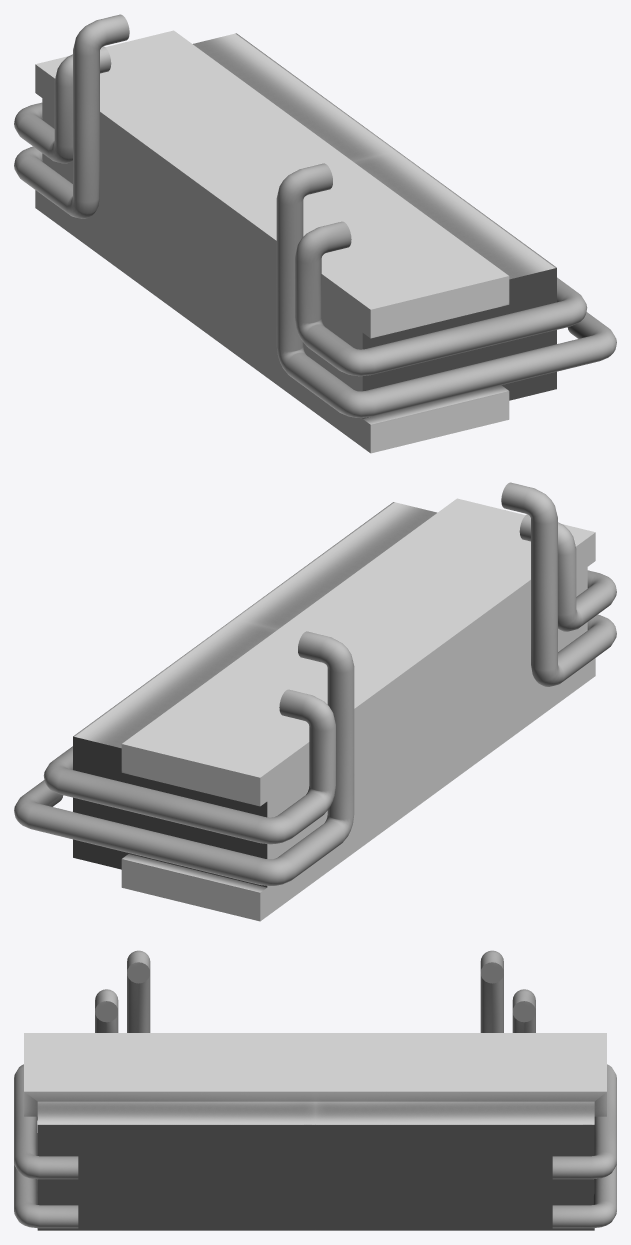
File: FloorEnd25.fbx
3 renders of one model, top to bottom at view 1: azimuth 30°, elevation 25°; view 2: azimuth 150°, elevation 25°; view 3: azimuth 270°, elevation 25°, orthographic. The views are drawn at different scales.
Parts seen in each view (by area): view 1: pCube11, pCylinder16, pCylinder15; view 2: pCube11, pCylinder16, pCylinder15; view 3: pCube11, pCylinder16, pCylinder15.
Boxes of the visible parts, bbox=[...] form: pCube11: bbox=[35, 30, 556, 453]; pCylinder16: bbox=[14, 14, 616, 417]; pCylinder15: bbox=[14, 46, 587, 376]; pCube11: bbox=[73, 498, 595, 921]; pCylinder16: bbox=[14, 482, 616, 885]; pCylinder15: bbox=[43, 514, 616, 844]; pCube11: bbox=[24, 1033, 606, 1230]; pCylinder16: bbox=[14, 950, 616, 1228]; pCylinder15: bbox=[14, 989, 616, 1179].
Size of the model in its own units: 6.32 by 5.12 by 13.66.
